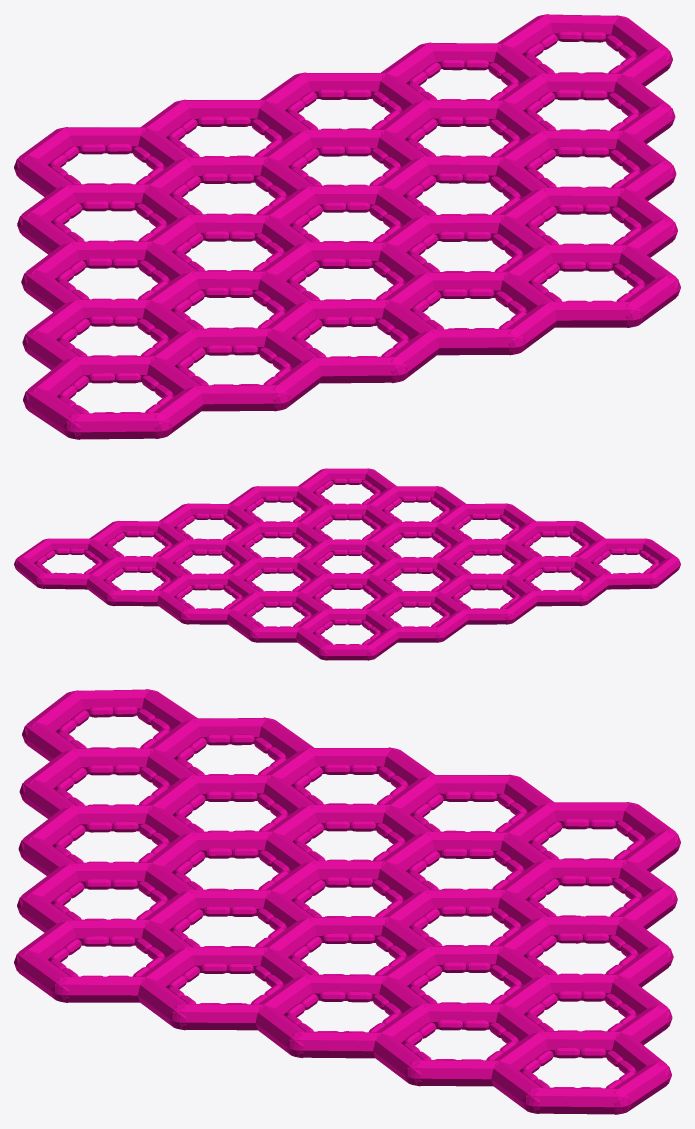
The model's file is graphene.glb.
3 views of the same model, one above another, from view 1: azimuth 30°, elevation 25°; view 2: azimuth 150°, elevation 25°; view 3: azimuth 270°, elevation 25° (orthographic). The views are drawn at different scales.
Parts seen in each view (by area): view 1: graphene; view 2: graphene; view 3: graphene.
Part boxes in pixels (<box>): graphene: <box>14,14,680,439</box>; graphene: <box>14,468,680,660</box>; graphene: <box>14,689,680,1114</box>.
Size of the model in its own units: 8.76 by 0.25 by 6.01.
